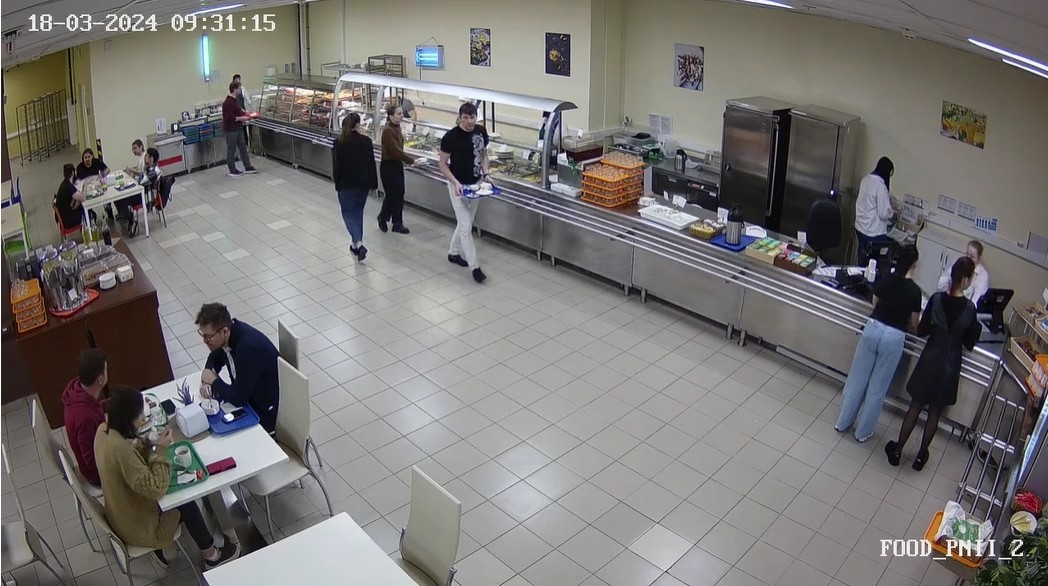Na_Kasse: (819, 239, 1007, 464), (790, 236, 946, 438)
Personal: (853, 148, 902, 258), (968, 232, 995, 306)
Vybiraet: (441, 98, 501, 287), (329, 110, 378, 270), (378, 99, 416, 242), (220, 86, 256, 179)
Za_Stolom: (190, 295, 301, 445), (97, 371, 179, 561), (47, 347, 115, 480), (49, 162, 91, 234), (130, 146, 167, 223), (74, 137, 110, 194), (124, 129, 147, 190)
